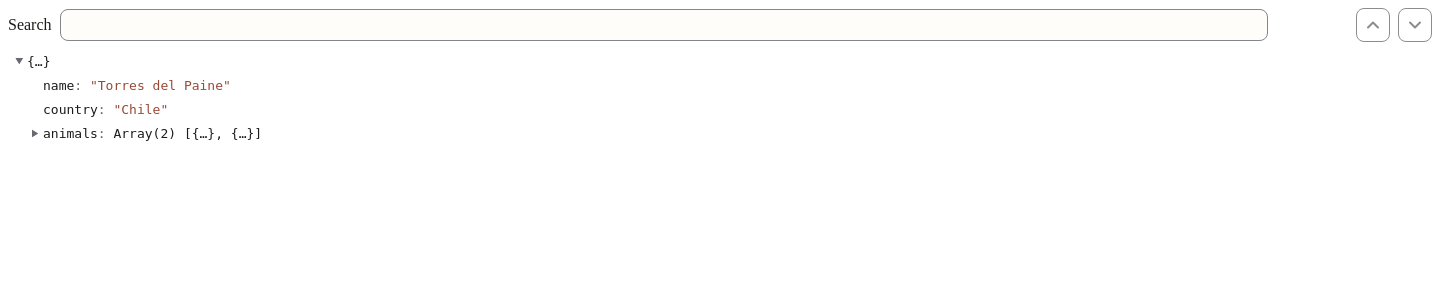
ObjectInspector › search › wraps around in both directions
In the search field: (664, 25) x1=60 y1=9 x2=1268 y2=41, type "guanaco"
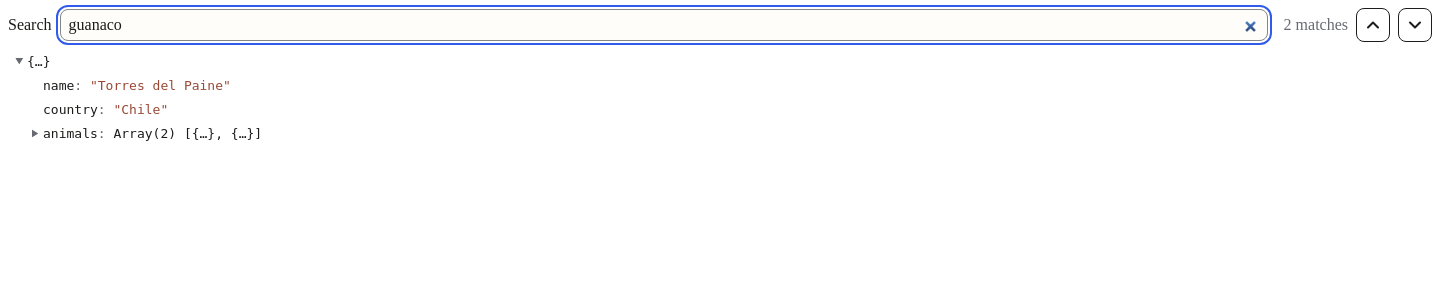
Now the text "2 matches" is shown, box x1=1276 y1=16 x2=1348 y2=34
Type keys "{Shift>}{Enter}{/Shift}"
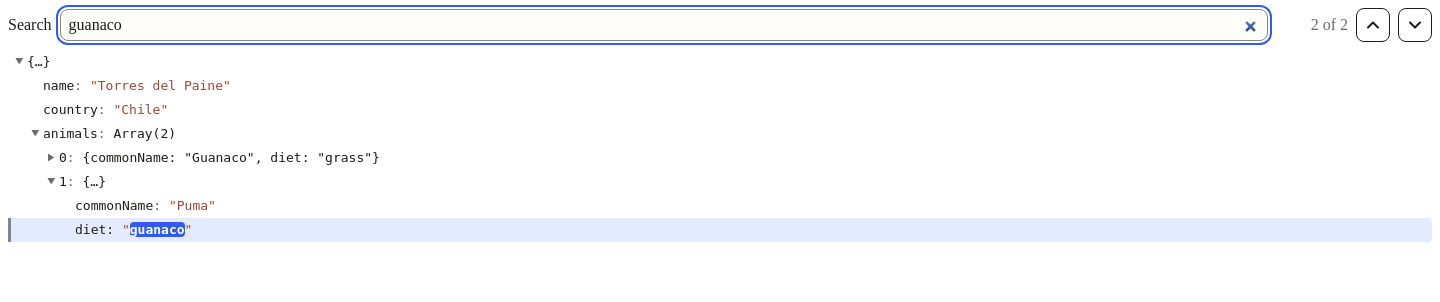
Now the text "2 of 2" is shown, box x1=1311 y1=16 x2=1348 y2=33
Press Enter
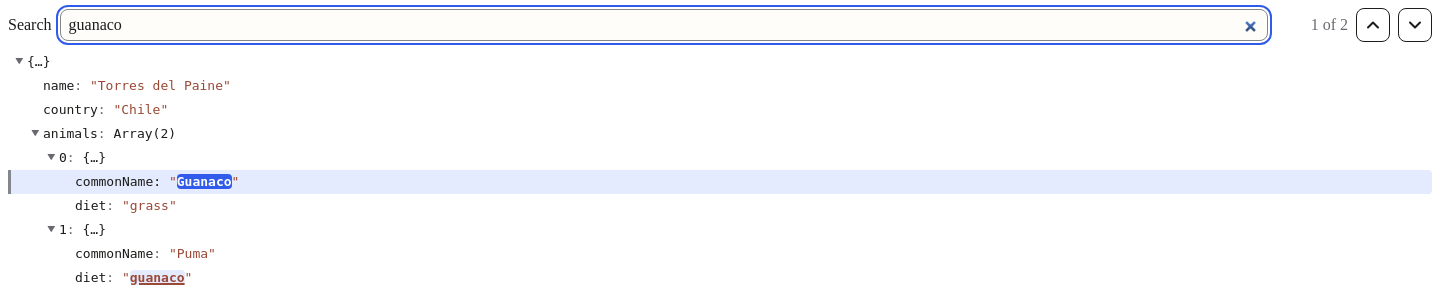
Now the text "1 of 2" is shown, box x1=1311 y1=16 x2=1348 y2=33
